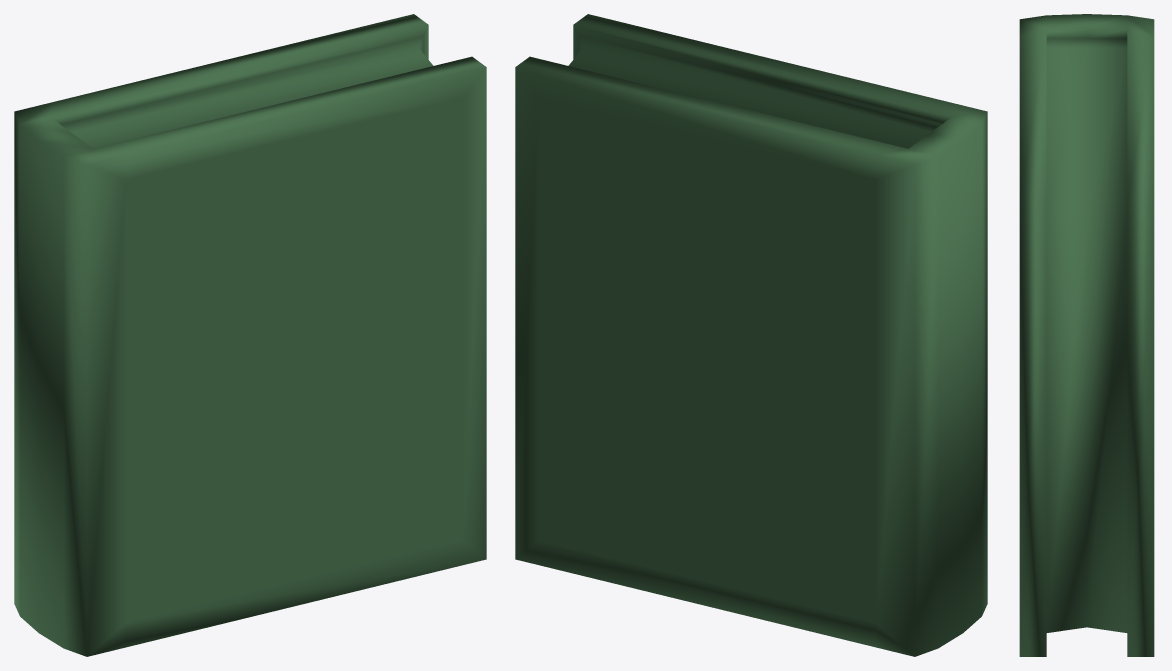
Rendered from SM_1hand_book_Tier1.fbx.
The picture shows the model from 3 angles, left to right: view 1: azimuth 30°, elevation 25°; view 2: azimuth 150°, elevation 25°; view 3: azimuth 270°, elevation 25°; orthographic projection. The views are drawn at different scales.
Visible parts, largest first — view 1: Weapon_Paladin_01; view 2: Weapon_Paladin_01; view 3: Weapon_Paladin_01.
Part boxes in pixels (bbox=[...]): Weapon_Paladin_01: bbox=[14, 14, 486, 656]; Weapon_Paladin_01: bbox=[515, 14, 987, 656]; Weapon_Paladin_01: bbox=[1019, 14, 1154, 656].
Size of the model in its own units: 30.08 by 34.38 by 9.68.
Materials: 1 (1 with a texture image).
